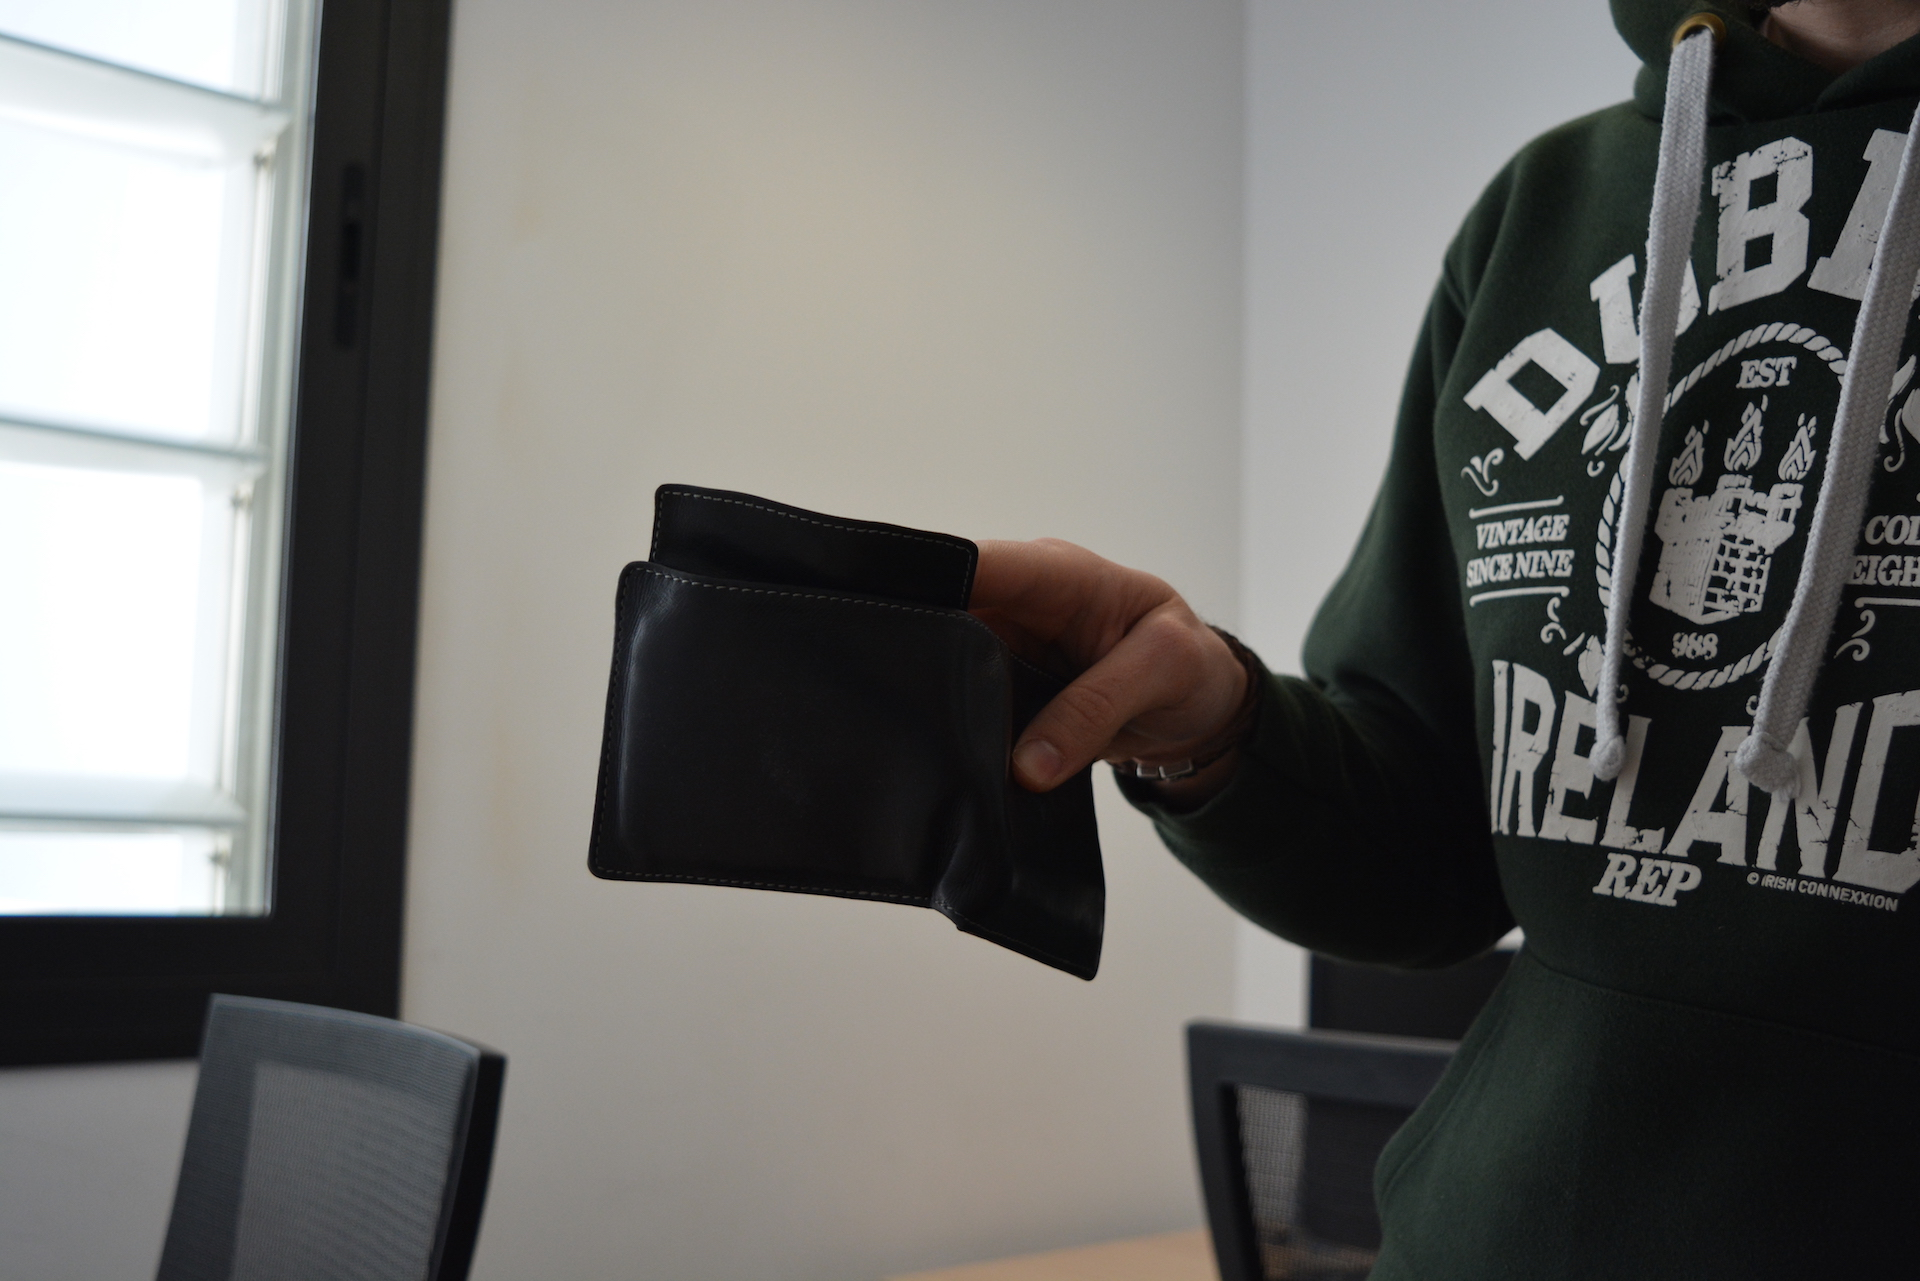monedero: (583, 480, 1109, 985)
